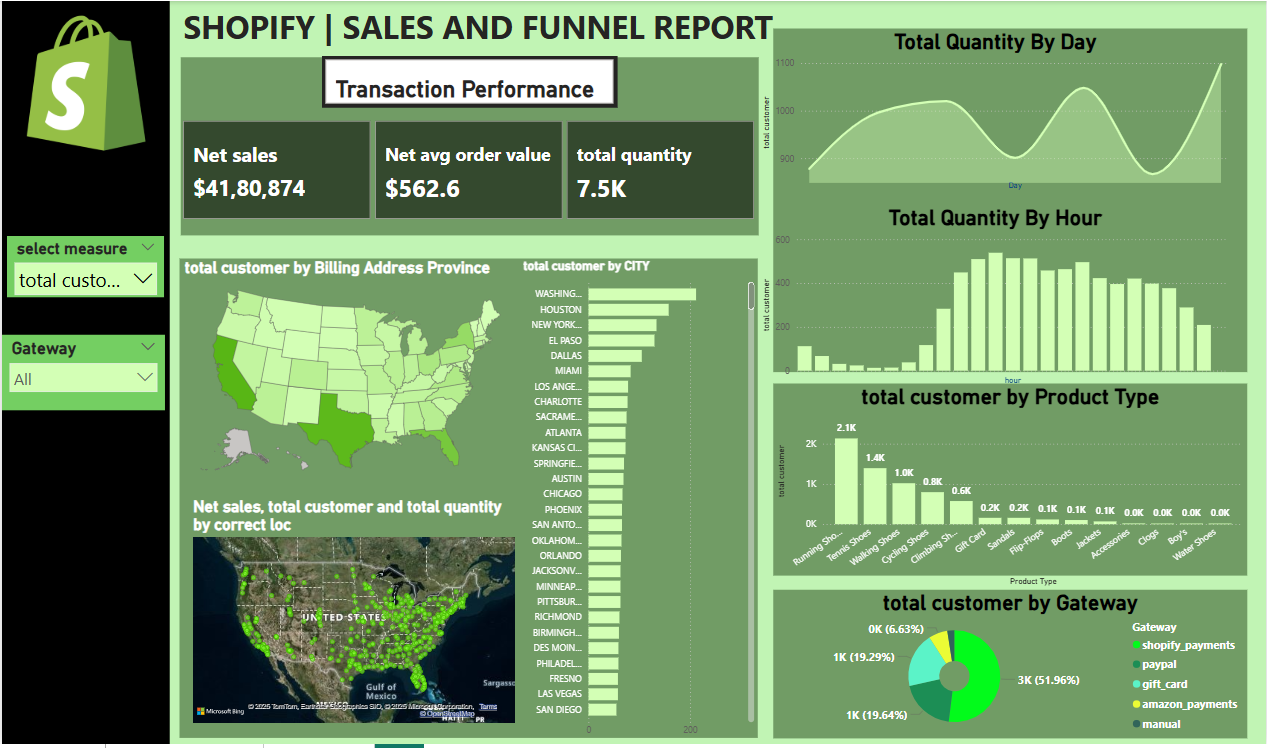

The page's visual inventory and layout, read from the dashboard file:
{"tool":"powerbi","page":{"name":"shopify analysis","canvas":[1700,1000],"ordinal":0},"visuals":[{"type":"shape","box":[0,0,226,1000.5],"z":0},{"type":"textbox","box":[238.7,0,867.5,74.7],"z":1000},{"type":"shape","box":[239.6,75.5,777.4,239.6],"z":2000},{"type":"cardVisual","fields":{"Data":["shopify_sales.Net sales","shopify_sales.Net avg order value","shopify_sales.total quantity"]},"box":[238.7,156.7,778.2,142.2],"z":3000},{"type":"cardVisual","fields":{"Data":["shopify_sales.Transaction Perf"]},"box":[430.1,74.7,397.3,69.3],"z":4000},{"type":"shape","box":[238.7,346.3,778.2,645.2],"z":5000},{"type":"shapeMap","fields":{"Value":["shopify_sales.total customer"],"Category":["shopify_sales.Billing Address Province"]},"box":[239.6,347.2,456.6,303.8],"z":6000},{"type":"slicer","fields":{"Values":["select measure.select measure"]},"box":[7.3,315.3,211.4,82],"z":7000},{"type":"map","fields":{"Category":["shopify_sales.correct loc"]},"box":[252.8,667.9,443.4,307.5],"z":8000},{"type":"clusteredBarChart","fields":{"Y":["shopify_sales.total customer"],"Category":["shopify_sales.CITY"]},"box":[696.2,347.2,320.8,652.8],"z":9000},{"type":"shape","box":[1037.7,37.7,637.7,462.3],"z":10000},{"type":"areaChart","title":"Total Quantity By Day","fields":{"Y":["shopify_sales.total customer"],"Category":["shopify_sales.Invoice Date.Variation.Date Hierarchy.Day"]},"box":[1017,37.7,637.7,222.6],"z":11000},{"type":"clusteredColumnChart","title":"Total Quantity By Hour","fields":{"Y":["shopify_sales.total customer"],"Category":["shopify_sales.hour"]},"box":[1017,273.6,637.7,247.2],"z":12000},{"type":"shape","box":[1037.7,792.5,637.7,200],"z":13000},{"type":"donutChart","fields":{"Y":["shopify_sales.total customer"],"Category":["shopify_sales.Gateway"]},"box":[1037.7,792.5,637.7,200],"z":14000},{"type":"shape","box":[1037.7,515.1,637.7,258.5],"z":15000},{"type":"columnChart","fields":{"Y":["shopify_sales.total customer"],"Category":["shopify_sales.Product Type"]},"box":[1037.7,515.1,637.7,277.4],"z":16000},{"type":"image","box":[28.3,1.9,169.8,217],"z":17000},{"type":"slicer","fields":{"Values":["shopify_sales.Gateway"]},"box":[0,449.1,218.9,101.9],"z":18000}]}

Visuals, with their boxes in screenshot pixels (x1, y1, x2, y2), scaled from the page's 1700x1000 canvas onto the 1267x748 screenshot:
shape: crop(0, 0, 168, 747)
textbox: crop(178, 0, 824, 56)
shape: crop(179, 56, 758, 236)
cardVisual - shopify_sales.Net sales x shopify_sales.Net avg order value: crop(178, 117, 758, 224)
cardVisual - shopify_sales.Transaction Perf: crop(321, 56, 617, 108)
shape: crop(178, 259, 758, 742)
shapeMap - shopify_sales.total customer x shopify_sales.Billing Address Province: crop(179, 260, 519, 487)
slicer - select measure.select measure: crop(5, 236, 163, 297)
map - shopify_sales.correct loc: crop(188, 500, 519, 730)
clusteredBarChart - shopify_sales.total customer x shopify_sales.CITY: crop(519, 260, 758, 747)
shape: crop(773, 28, 1249, 374)
"Total Quantity By Day" areaChart: crop(758, 28, 1233, 195)
"Total Quantity By Hour" clusteredColumnChart: crop(758, 205, 1233, 390)
shape: crop(773, 593, 1249, 742)
donutChart - shopify_sales.total customer x shopify_sales.Gateway: crop(773, 593, 1249, 742)
shape: crop(773, 385, 1249, 579)
columnChart - shopify_sales.total customer x shopify_sales.Product Type: crop(773, 385, 1249, 593)
image: crop(21, 1, 148, 164)
slicer - shopify_sales.Gateway: crop(0, 336, 163, 412)
